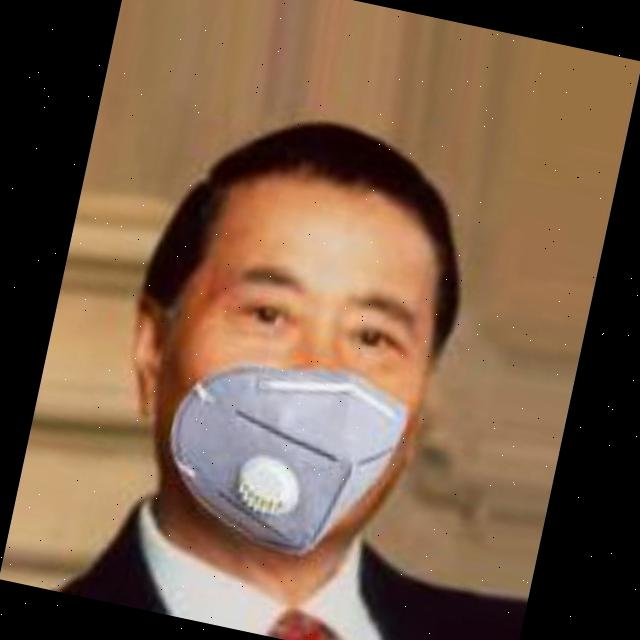suspicion: (105, 107, 468, 592)
